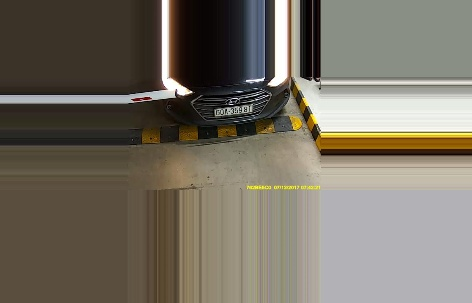plate: (213, 101, 258, 116)
